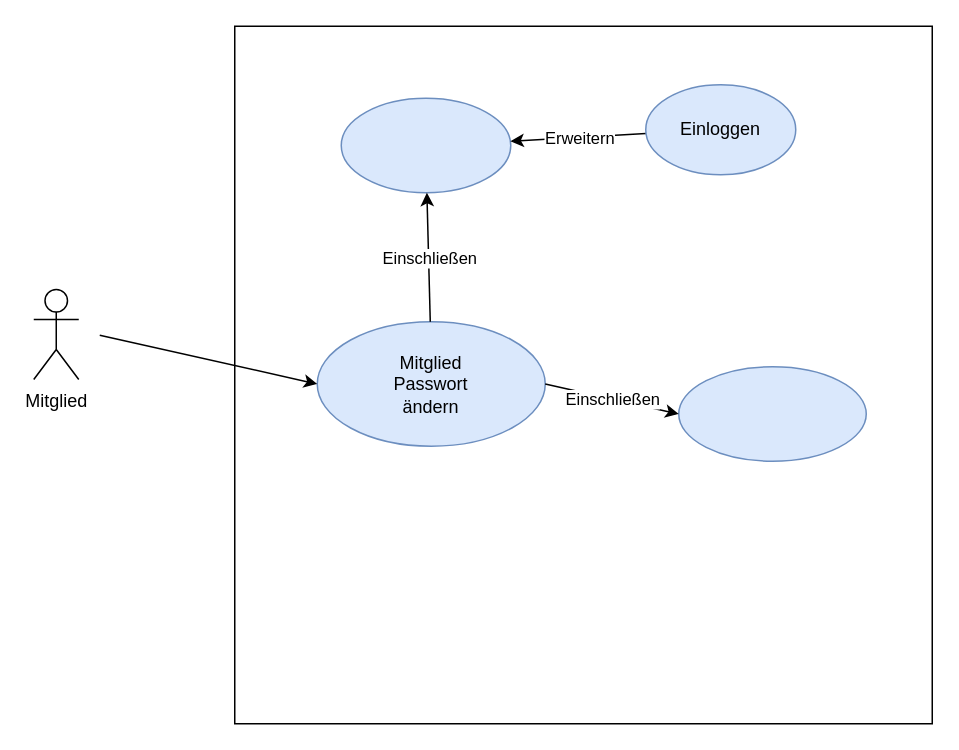
Some shapes in this 959 by 750 pixel diagram are drawn without their labels. Here are the shapes that lost their labels. From the top down, the centre of each, then its label:
(425,145): Perönliche Daten aufrufen
(771,413): Passwort- Anderungsformular aufrufen
